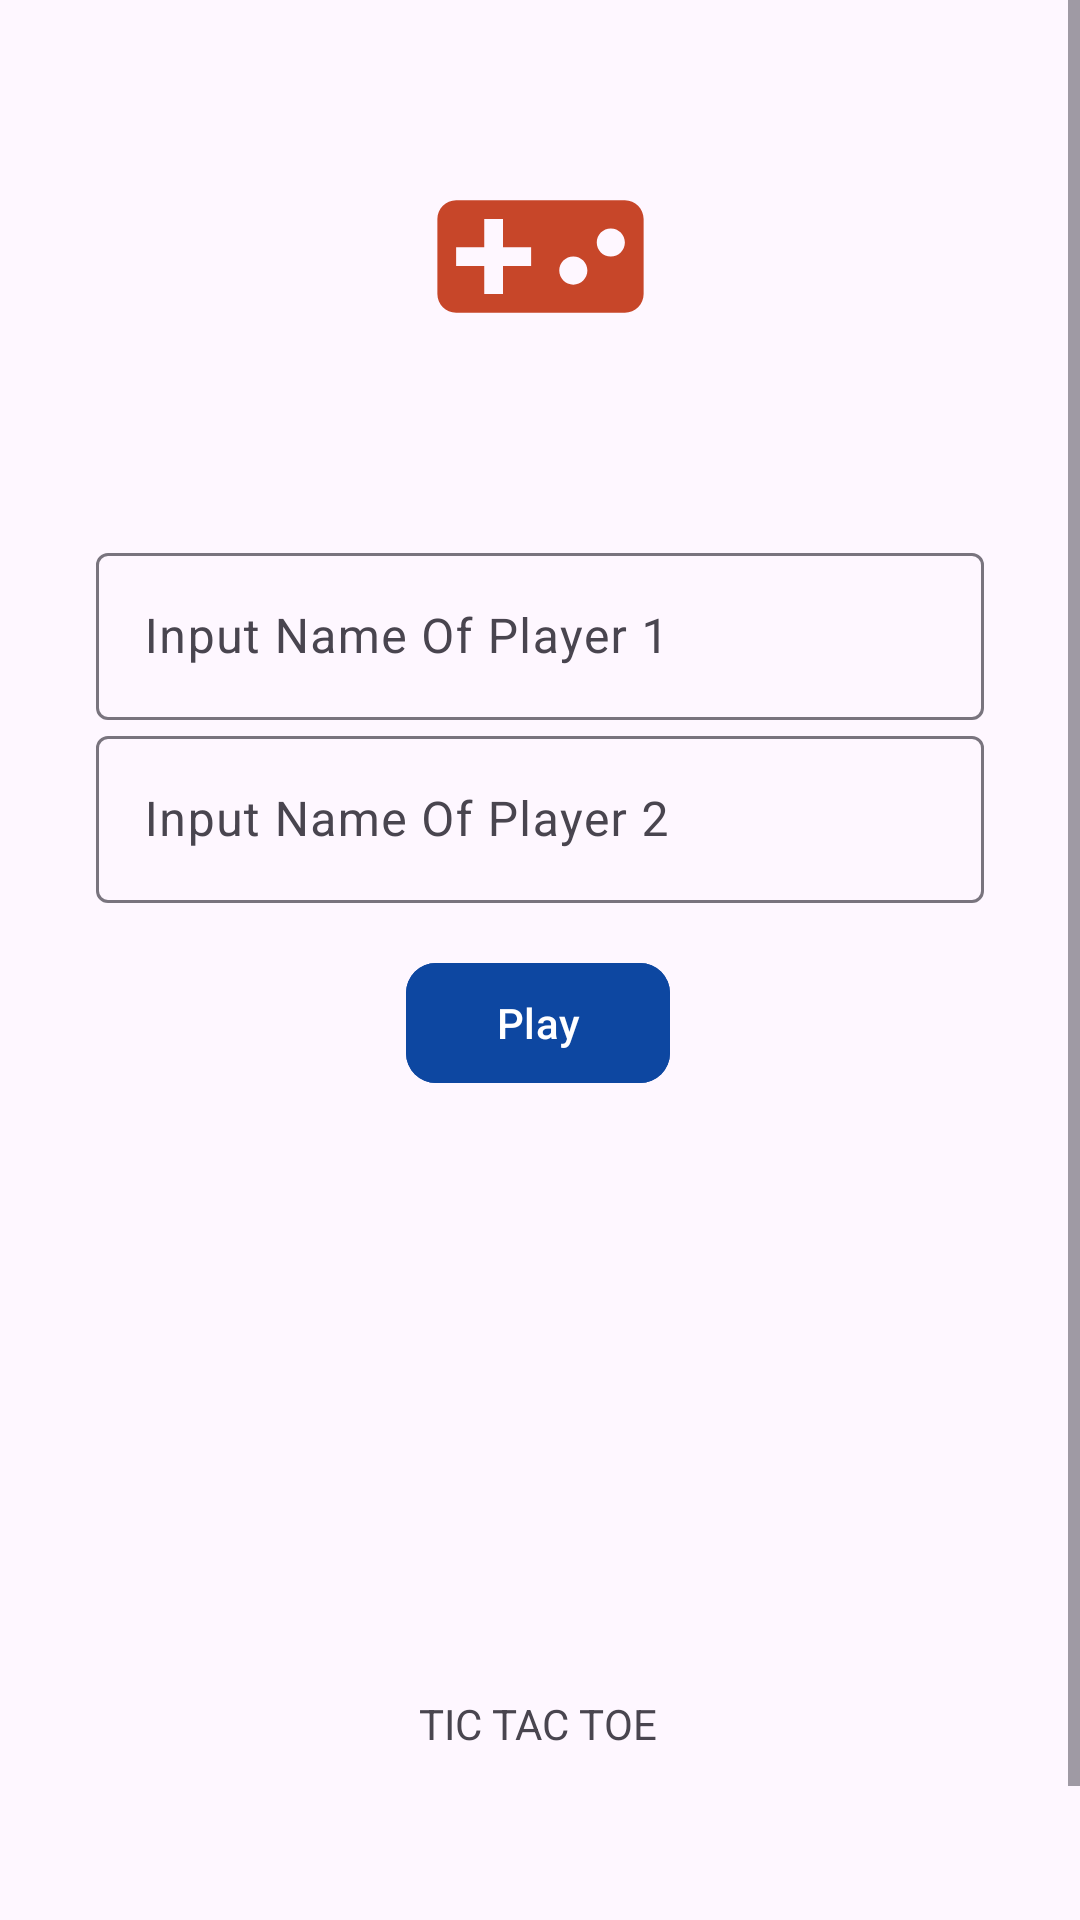

Screen size 1080 × 1920. Icon name, then its box in pixels as (x1, y1, x2, y2):
Ini adalah Game TicTacToe: (437, 200, 644, 313)
